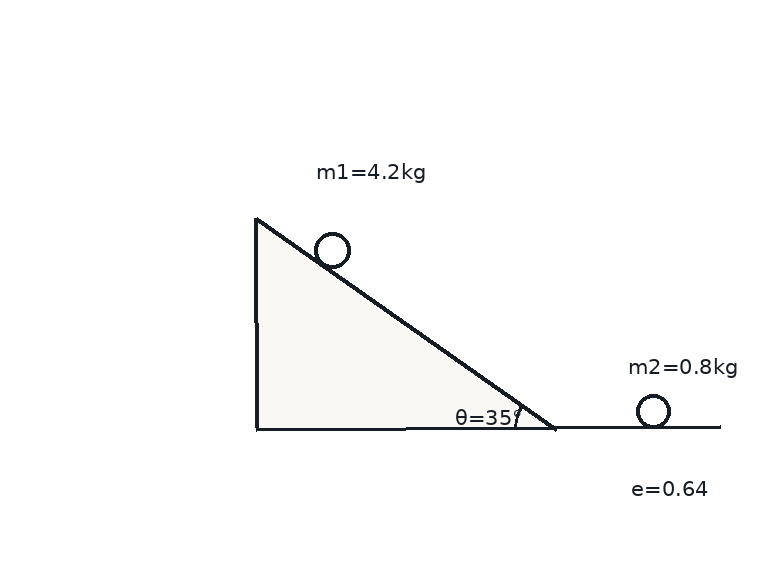ball: (312, 230, 352, 270), (634, 392, 672, 430)
ramp: (253, 216, 557, 430)
